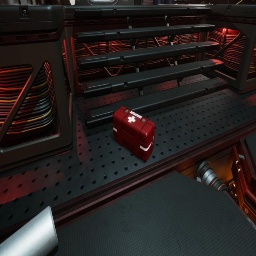0: (0, 206, 58, 256), (57, 0, 75, 5)
EmergencyPhone ,: (206, 4, 206, 4)
FireExtinguisher ]: (36, 0, 57, 5)
FirstAidBox ,: (113, 106, 155, 162)
SafetySwitchPanel ,: (198, 0, 206, 4)
